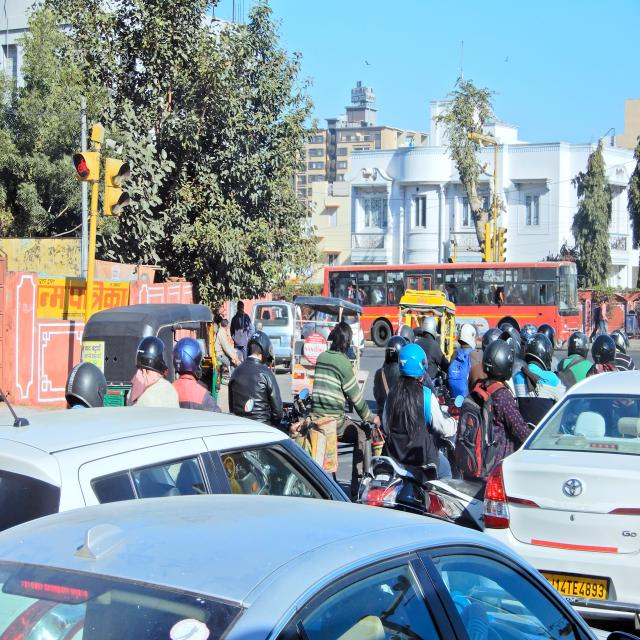autorickshaw: (82, 303, 220, 407), (291, 297, 364, 395)
bus: (324, 260, 580, 345)
car: (484, 372, 640, 628), (251, 300, 295, 368)
motorcycle: (359, 345, 458, 513)
